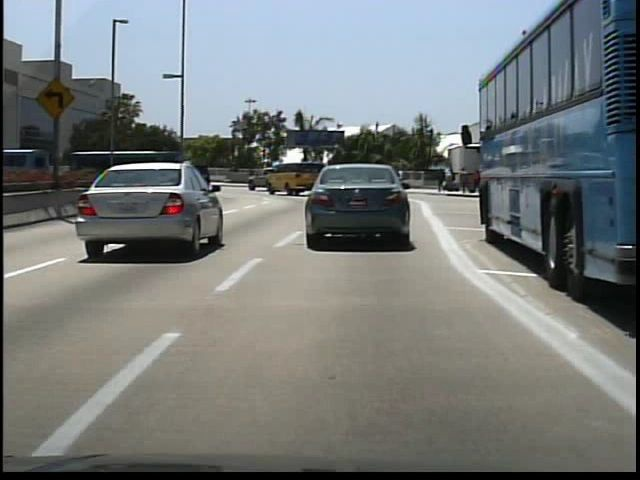person: (455, 165, 470, 196), (434, 167, 446, 194), (248, 163, 258, 178)
